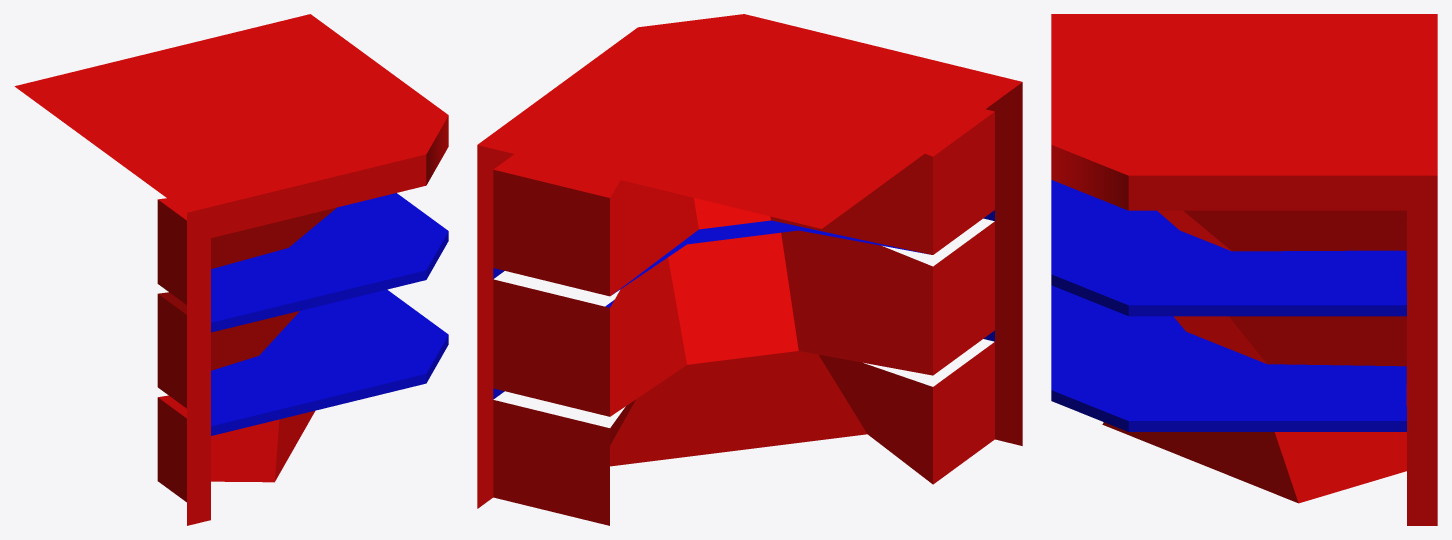
Rendered from Küchentheke_2_ecke_low.fbx.
3 renders of one model, left to right at view 1: azimuth 30°, elevation 25°; view 2: azimuth 150°, elevation 25°; view 3: azimuth 270°, elevation 25°, orthographic. The views are drawn at different scales.
Parts seen in each view (by area): view 1: Küchentheke_2_ecke_low; view 2: Küchentheke_2_ecke_low; view 3: Küchentheke_2_ecke_low.
Boxes of the visible parts, x1,y1,x2,y2 form: Küchentheke_2_ecke_low: [14, 14, 448, 525]; Küchentheke_2_ecke_low: [477, 14, 1022, 525]; Küchentheke_2_ecke_low: [1051, 14, 1437, 525].
Bounding box in the file's own units: 0.99 × 1 × 1.
